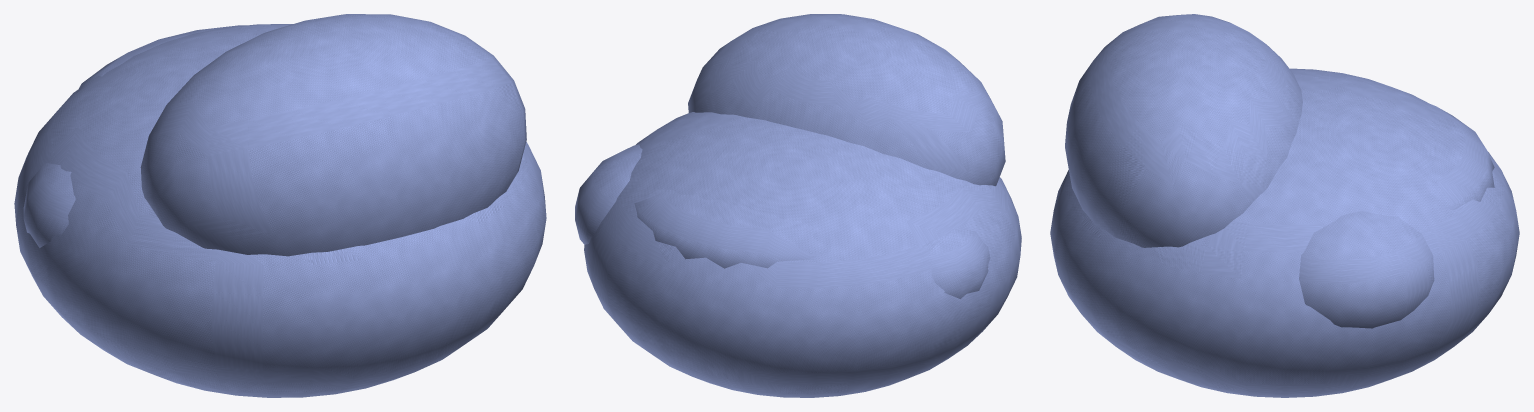
The model's file is beanbag_blue.glb.
3 views of the same model, side by side, from view 1: azimuth 30°, elevation 25°; view 2: azimuth 150°, elevation 25°; view 3: azimuth 270°, elevation 25° (orthographic). The views are drawn at different scales.
Parts seen in each view (by area): view 1: beanbag_blue_body; view 2: beanbag_blue_body; view 3: beanbag_blue_body.
Part boxes in pixels (x1=…): beanbag_blue_body: x1=14, y1=14, x2=546, y2=397; beanbag_blue_body: x1=575, y1=14, x2=1021, y2=397; beanbag_blue_body: x1=1050, y1=14, x2=1519, y2=397.
Size of the model in its own units: 1 by 0.7681 by 1.
Materials: 3 (3 with a texture image).
